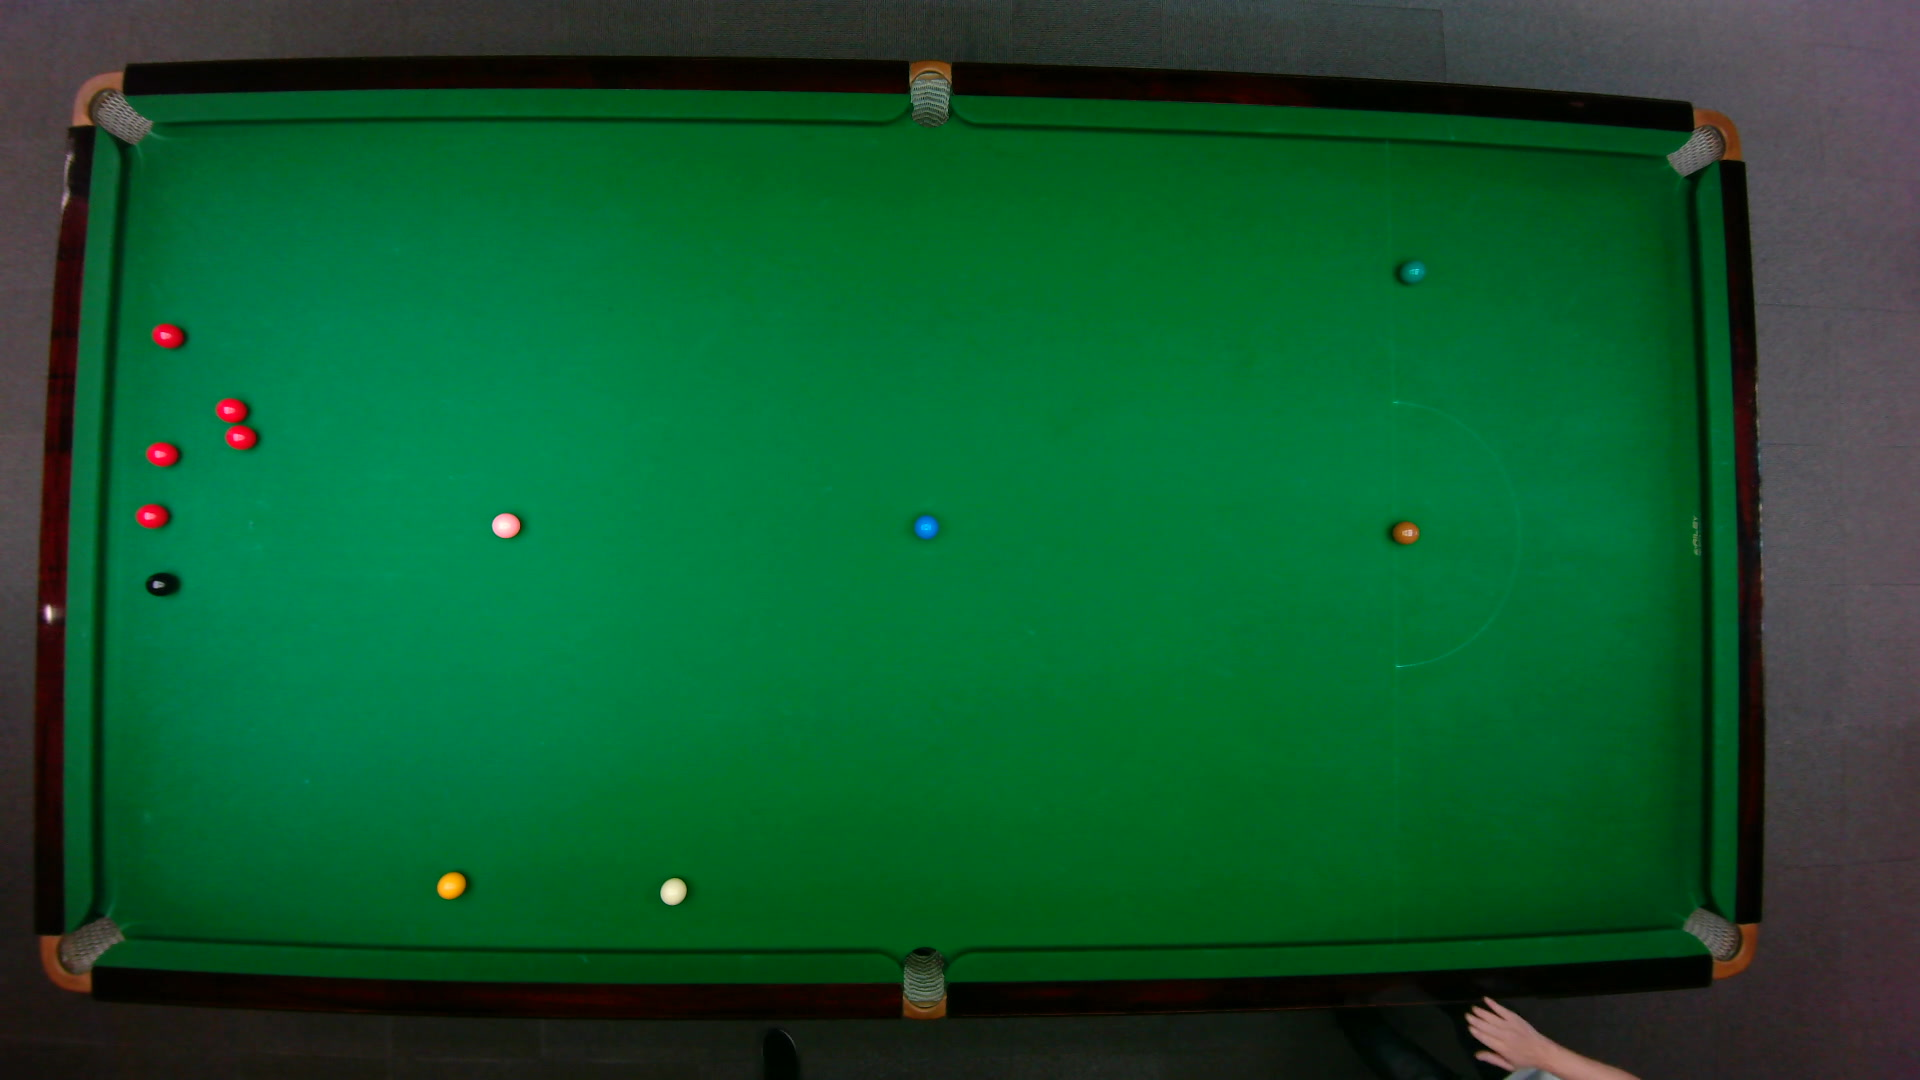bag: (37, 914, 127, 992), (69, 70, 152, 145), (1679, 905, 1756, 978), (1663, 107, 1741, 178), (901, 944, 944, 1021), (909, 57, 949, 128)
black: (142, 571, 175, 596)
blue: (911, 512, 938, 541)
brown: (1390, 520, 1419, 545)
green: (1396, 257, 1425, 284)
pink: (489, 509, 521, 541)
red: (214, 396, 247, 423), (150, 322, 185, 348), (133, 502, 169, 527), (224, 423, 257, 450), (145, 440, 178, 465)
white: (658, 876, 687, 906)
yellow: (435, 869, 465, 899)
zone: (1390, 400, 1520, 667)
